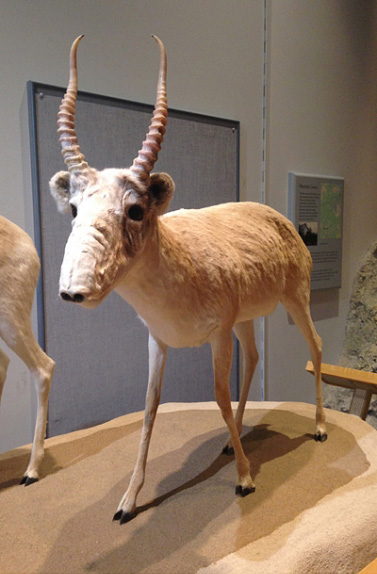saiga: (48, 33, 329, 525)
